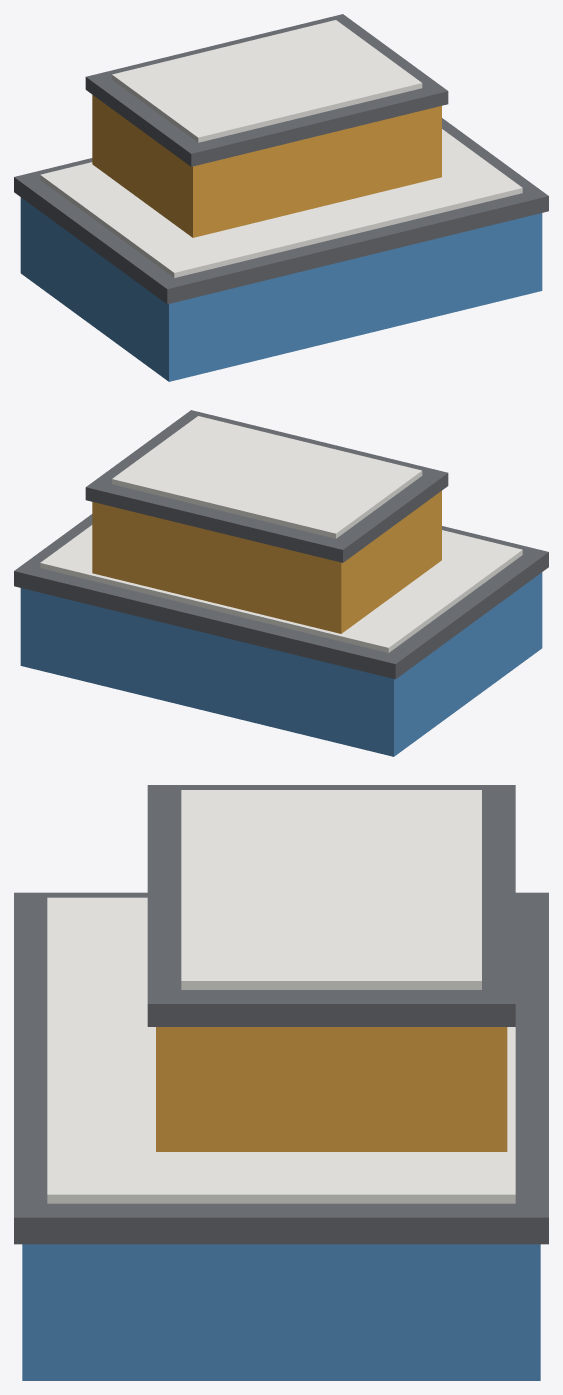
The model's file is boarding-kennels-and-cattery-boarding-kennels-and-catt-8d5bc0db__35573.glb.
The picture shows the model from 3 angles, top to bottom: view 1: azimuth 30°, elevation 25°; view 2: azimuth 150°, elevation 25°; view 3: azimuth 270°, elevation 25°; orthographic projection. The views are drawn at different scales.
Visible parts, largest first — view 1: boarding-kennels-and-cattery-agility-step; view 2: boarding-kennels-and-cattery-agility-step; view 3: boarding-kennels-and-cattery-agility-step.
Part boxes in pixels (<box>): boarding-kennels-and-cattery-agility-step: <box>14,14,548,381</box>; boarding-kennels-and-cattery-agility-step: <box>14,410,548,756</box>; boarding-kennels-and-cattery-agility-step: <box>14,785,548,1380</box>.
Size of the model in its own units: 0.92 by 0.444 by 0.64.
